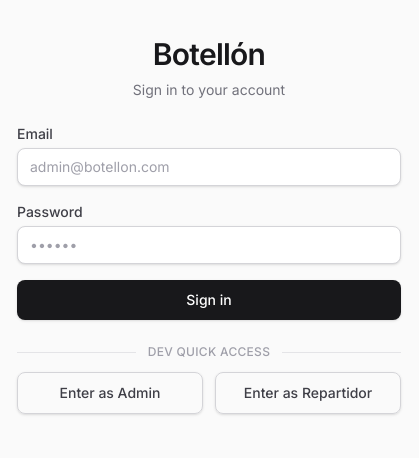
Test case: LoginPage — client-side validation › shows "Password must be at least 6 characters" when password is too short
In the field labelled "Email": (209, 167) [17,148,401,186], type "test@example.com"
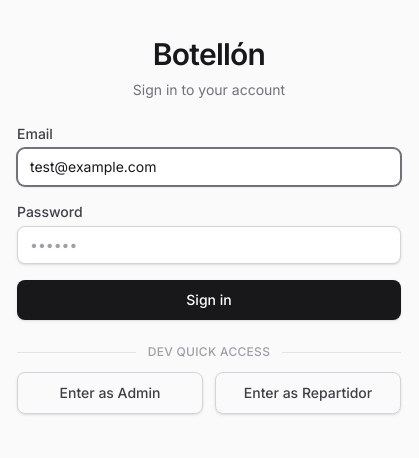
In the password field labelled "Password": (209, 245) [17,226,401,264], type "12345"
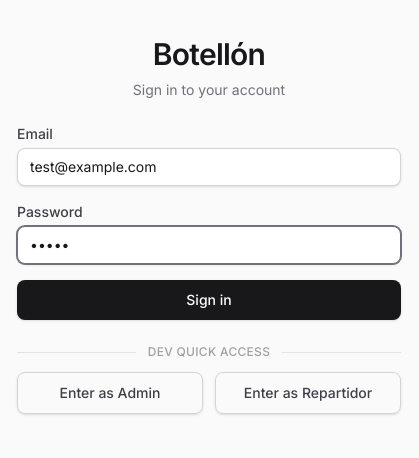
Submit the form "Email Password Sign in", box [17,124,401,320]
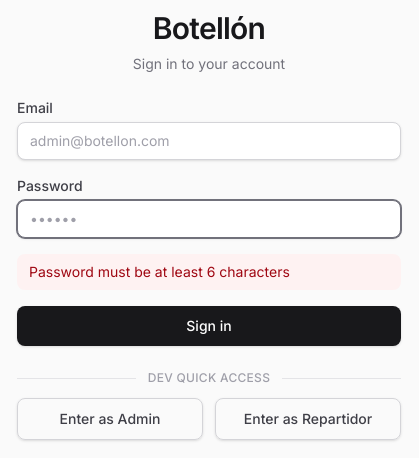
Now the text "Password must be at least 6 characters" is shown, box [17,254,401,290]
